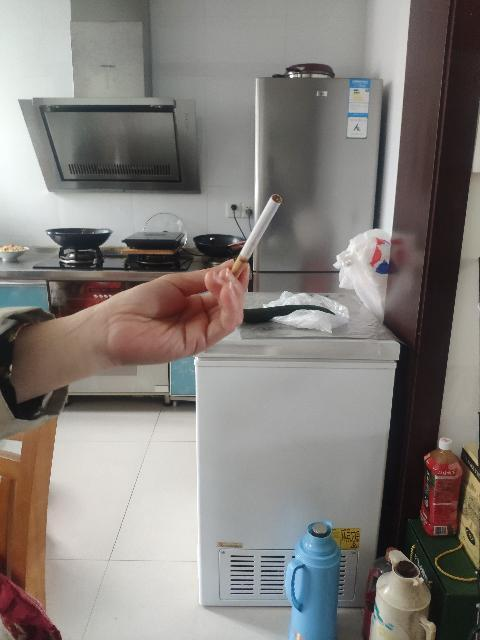Smoking: (222, 194, 284, 288)
